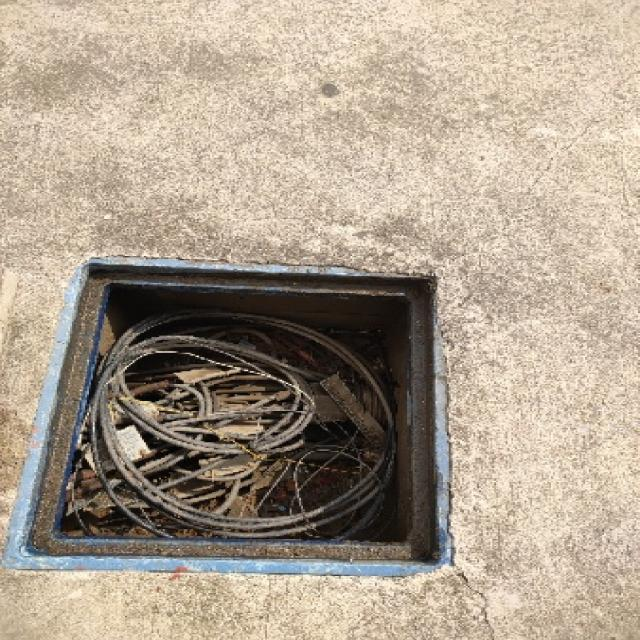Faulty: (5, 245, 474, 591)
